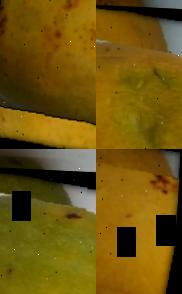PartiallyRipe: (0, 0, 96, 149), (0, 169, 96, 294)
Ripe: (96, 149, 182, 294), (96, 6, 182, 149)
